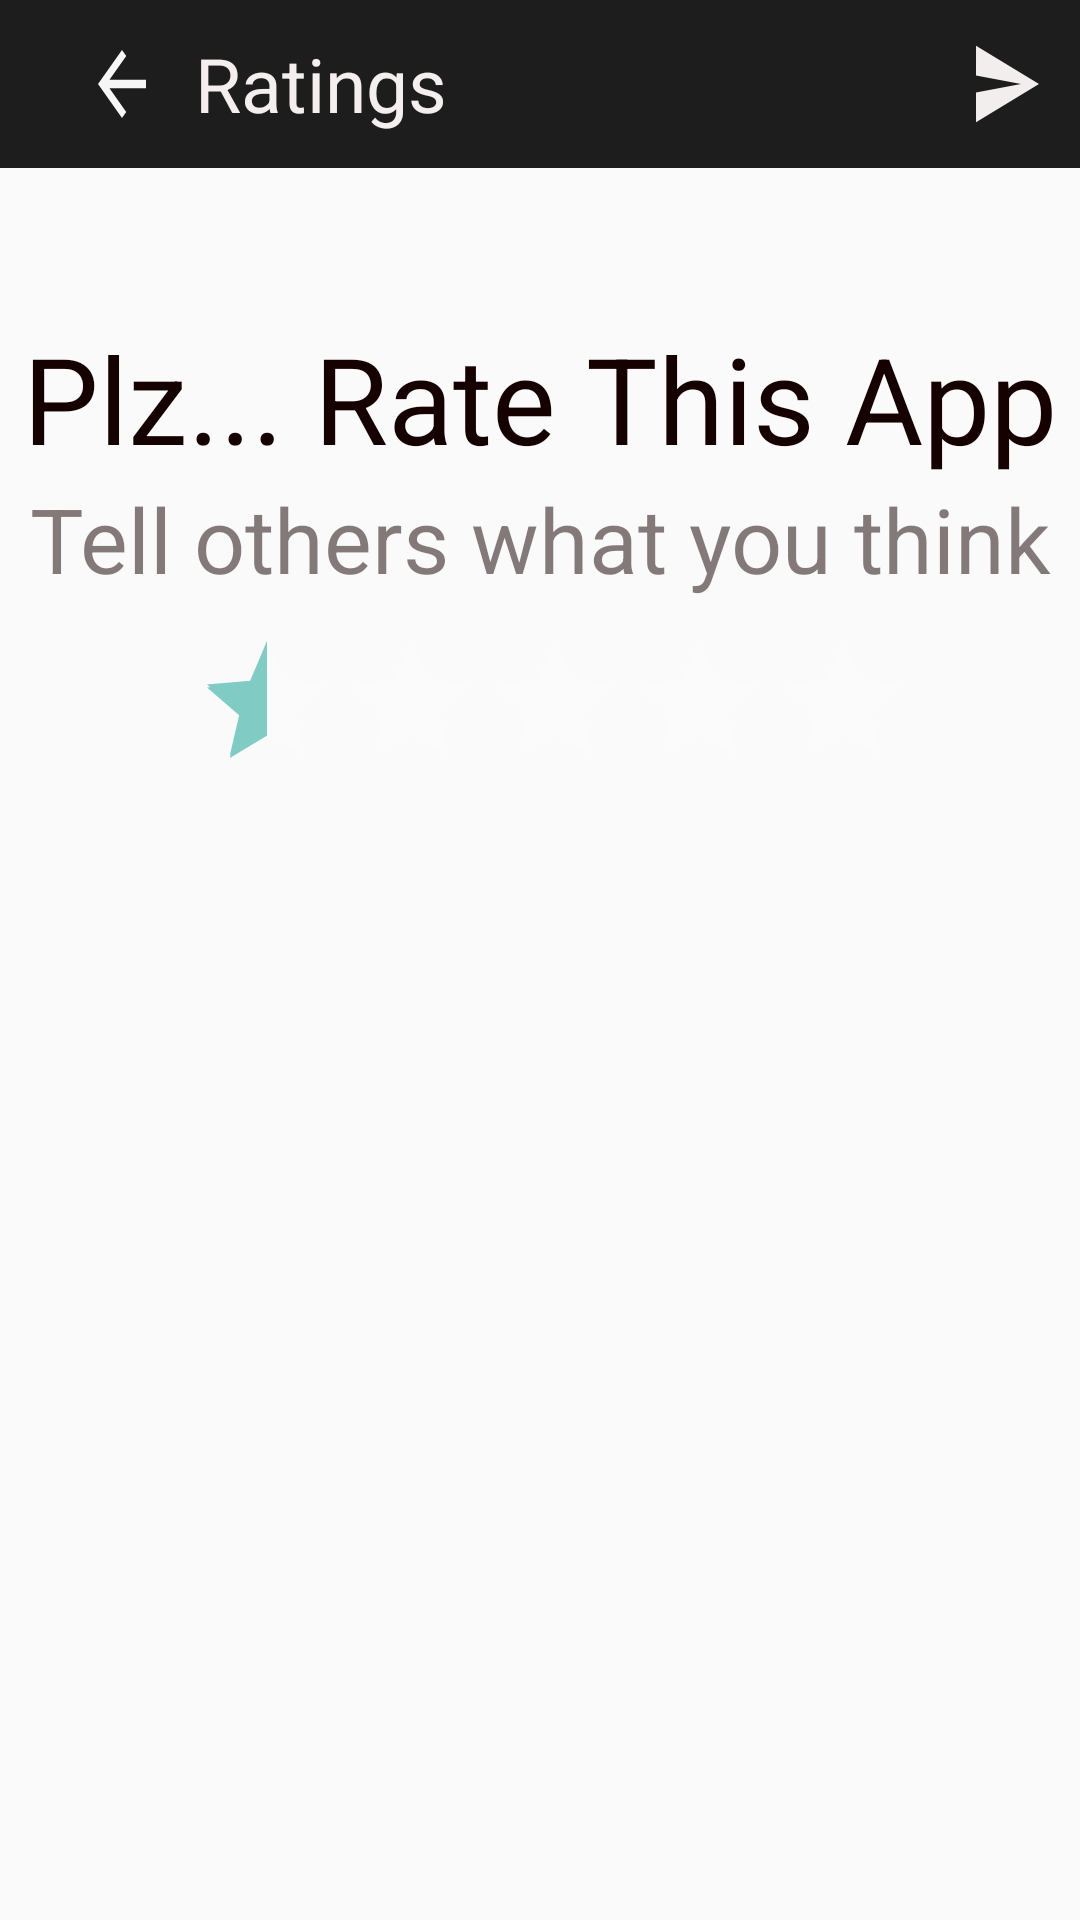

Named icons in this screenshot (1080px x 1920px) and their bounding boxes, (left=x1, top=y1, right=x2, bottom=y2):
arrow back: (left=98, top=50, right=146, bottom=118)
send: (left=976, top=46, right=1039, bottom=122)
